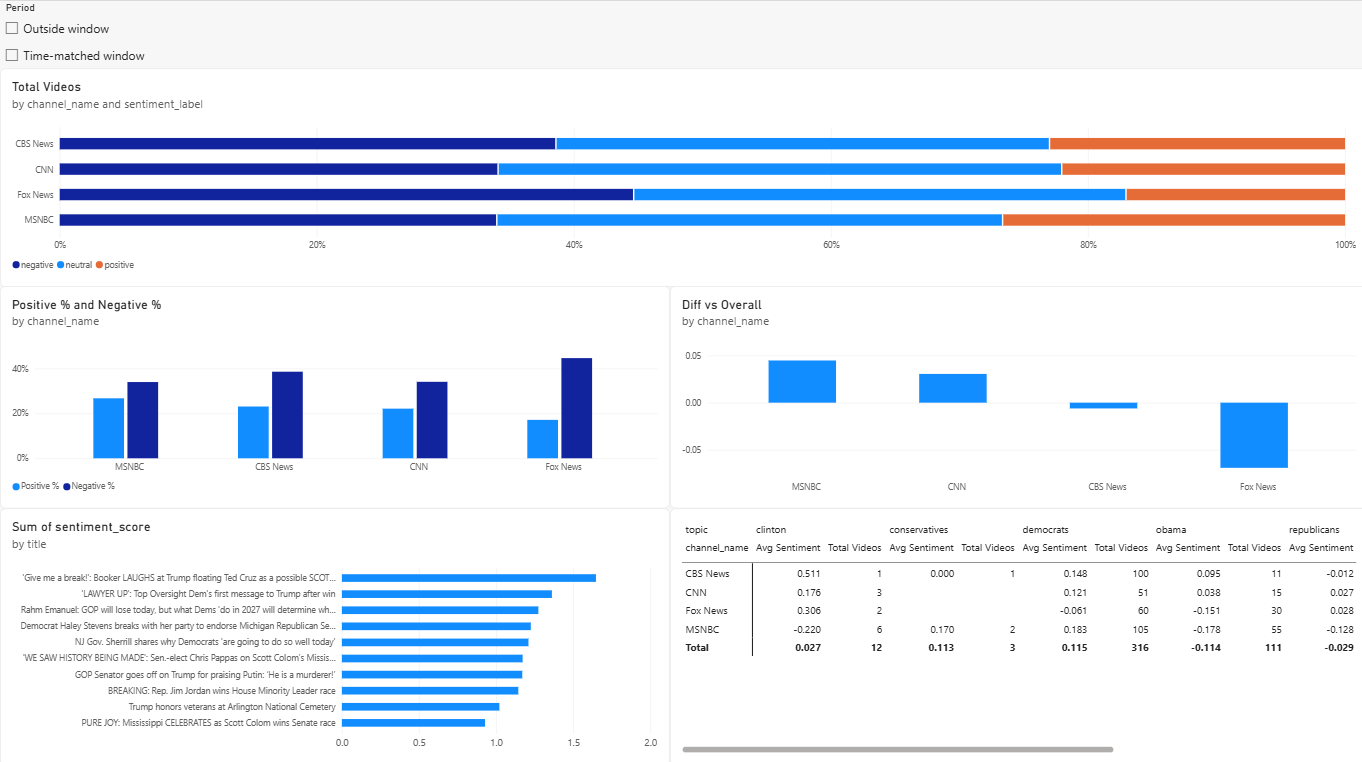

What the dashboard file says about the page in this screenshot:
{"tool":"powerbi","page":{"name":"Channel Comparision","canvas":[1920,1080],"ordinal":1},"visuals":[{"type":"hundredPercentStackedBarChart","fields":{"Category":["dim_channel.channel_name"],"Series":["fact_videos.sentiment_label"],"Y":["My Calculations.Total Videos"]},"box":[0,94,1920,306],"z":0},{"type":"clusteredColumnChart","fields":{"Category":["dim_channel.channel_name"],"Y":["My Calculations.Positive %","My Calculations.Negative %"]},"box":[0,400,940,312],"z":1000},{"type":"clusteredColumnChart","fields":{"Category":["dim_channel.channel_name"],"Y":["My Calculations.Diff vs Overall"]},"box":[940,400,980,312],"z":2000},{"type":"clusteredBarChart","fields":{"Category":["fact_videos.title"],"Y":["Sum(fact_videos.sentiment_score)"]},"box":[0,712,940,360],"z":3000},{"type":"pivotTable","fields":{"Columns":["video_topics.topic"],"Rows":["dim_channel.channel_name"],"Values":["My Calculations.Avg Sentiment","My Calculations.Total Videos"]},"box":[940,712,980,360],"z":4000},{"type":"slicer","fields":{"Values":["fact_videos.Period"]},"box":[0,0,1920,94],"z":5000}]}

Visuals, with their boxes in screenshot pixels (x1, y1, x2, y2), scaled from the page's 1920x1080 canvas onto the 1362x762 screenshot:
hundredPercentStackedBarChart - dim_channel.channel_name x fact_videos.sentiment_label: pyautogui.locateOnScreen(0, 66, 1361, 282)
clusteredColumnChart - dim_channel.channel_name x My Calculations.Positive %: pyautogui.locateOnScreen(0, 282, 667, 502)
clusteredColumnChart - dim_channel.channel_name x My Calculations.Diff vs Overall: pyautogui.locateOnScreen(667, 282, 1361, 502)
clusteredBarChart - fact_videos.title x Sum(fact_videos.sentiment_score): pyautogui.locateOnScreen(0, 502, 667, 756)
pivotTable - video_topics.topic x dim_channel.channel_name: pyautogui.locateOnScreen(667, 502, 1361, 756)
slicer - fact_videos.Period: pyautogui.locateOnScreen(0, 0, 1361, 66)
